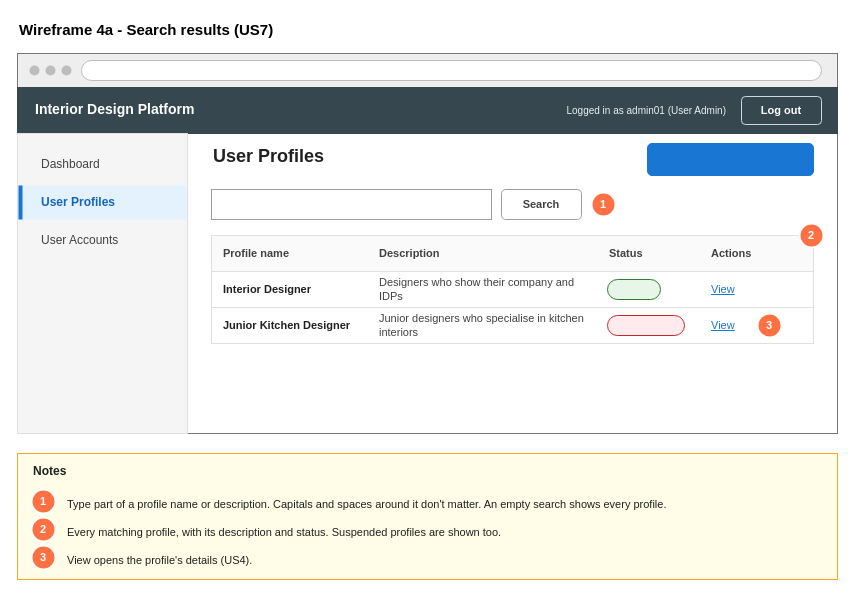
The diagram is 855 pixels wide and 597 high, and some of its shapes have lost their labels. The shapes that lost their labels are listed below. From the top down, each one's centre as x and y in pixels, then its label:
At point 451,70: "localhost:8080/admin/profiles?keyword=designer".
At point 730,159: "+ Create user profile".
At point 351,204: "designer".
At point 633,289: "Active".
At point 645,325: "Suspended".
